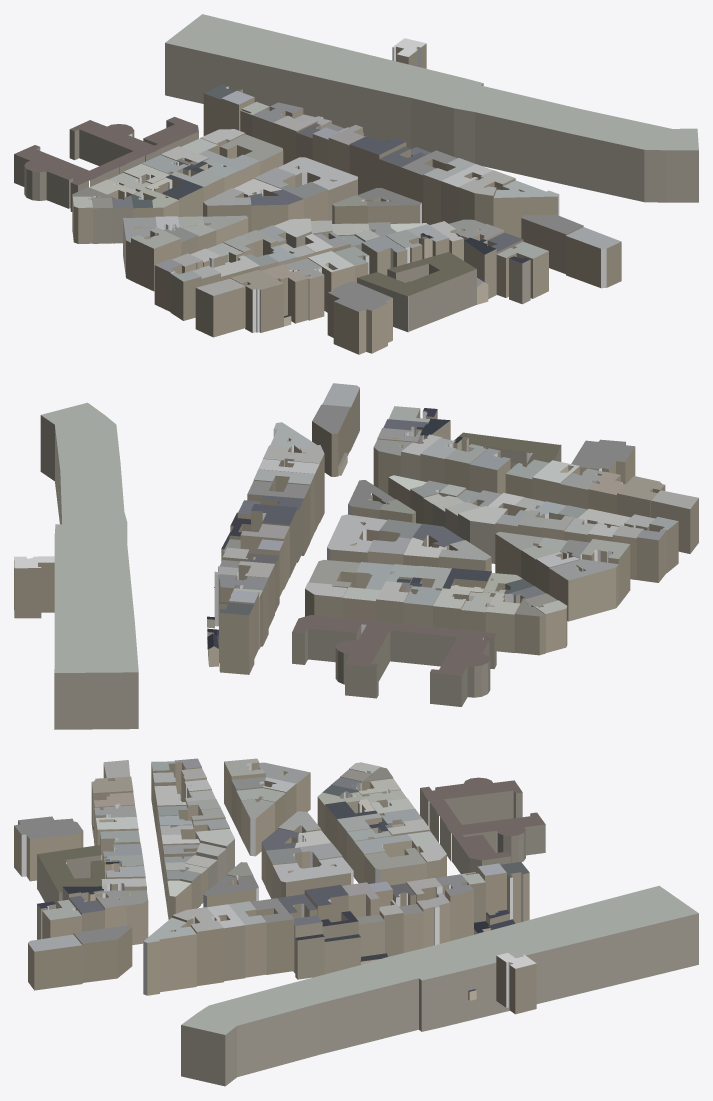
3 renders of one model, top to bottom at view 1: azimuth 30°, elevation 25°; view 2: azimuth 150°, elevation 25°; view 3: azimuth 270°, elevation 25°, orthographic. The views are drawn at different scales.
Parts seen in each view (by area): view 1: tuile; view 2: tuile; view 3: tuile.
Boxes of the visible parts, <box> form: tuile: <box>14,14,698,354</box>; tuile: <box>14,383,698,729</box>; tuile: <box>14,758,698,1086</box>.
Size of the model in its own units: 328 by 38.35 by 356.
